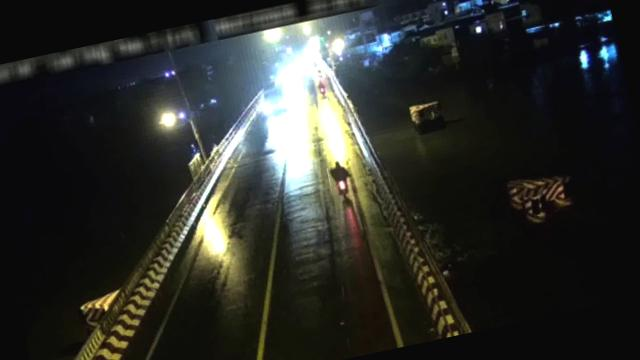Bike: (326, 158, 356, 200)
